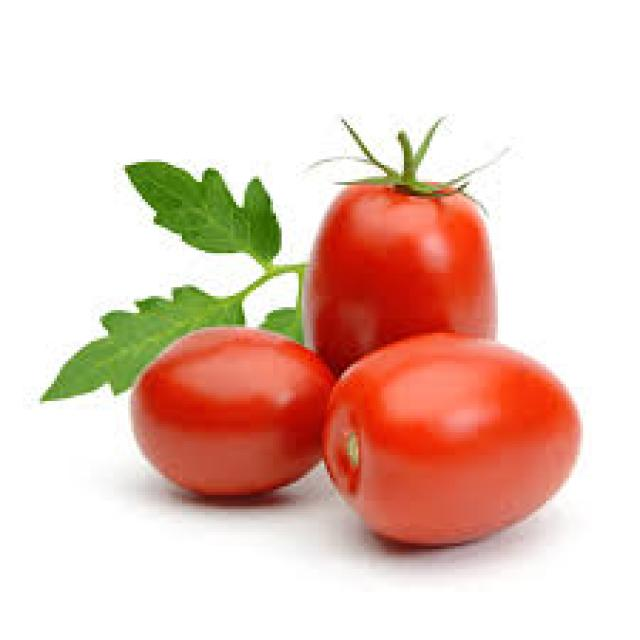Fresh_tomato: (308, 330, 586, 532), (129, 320, 326, 496), (322, 176, 492, 347)
